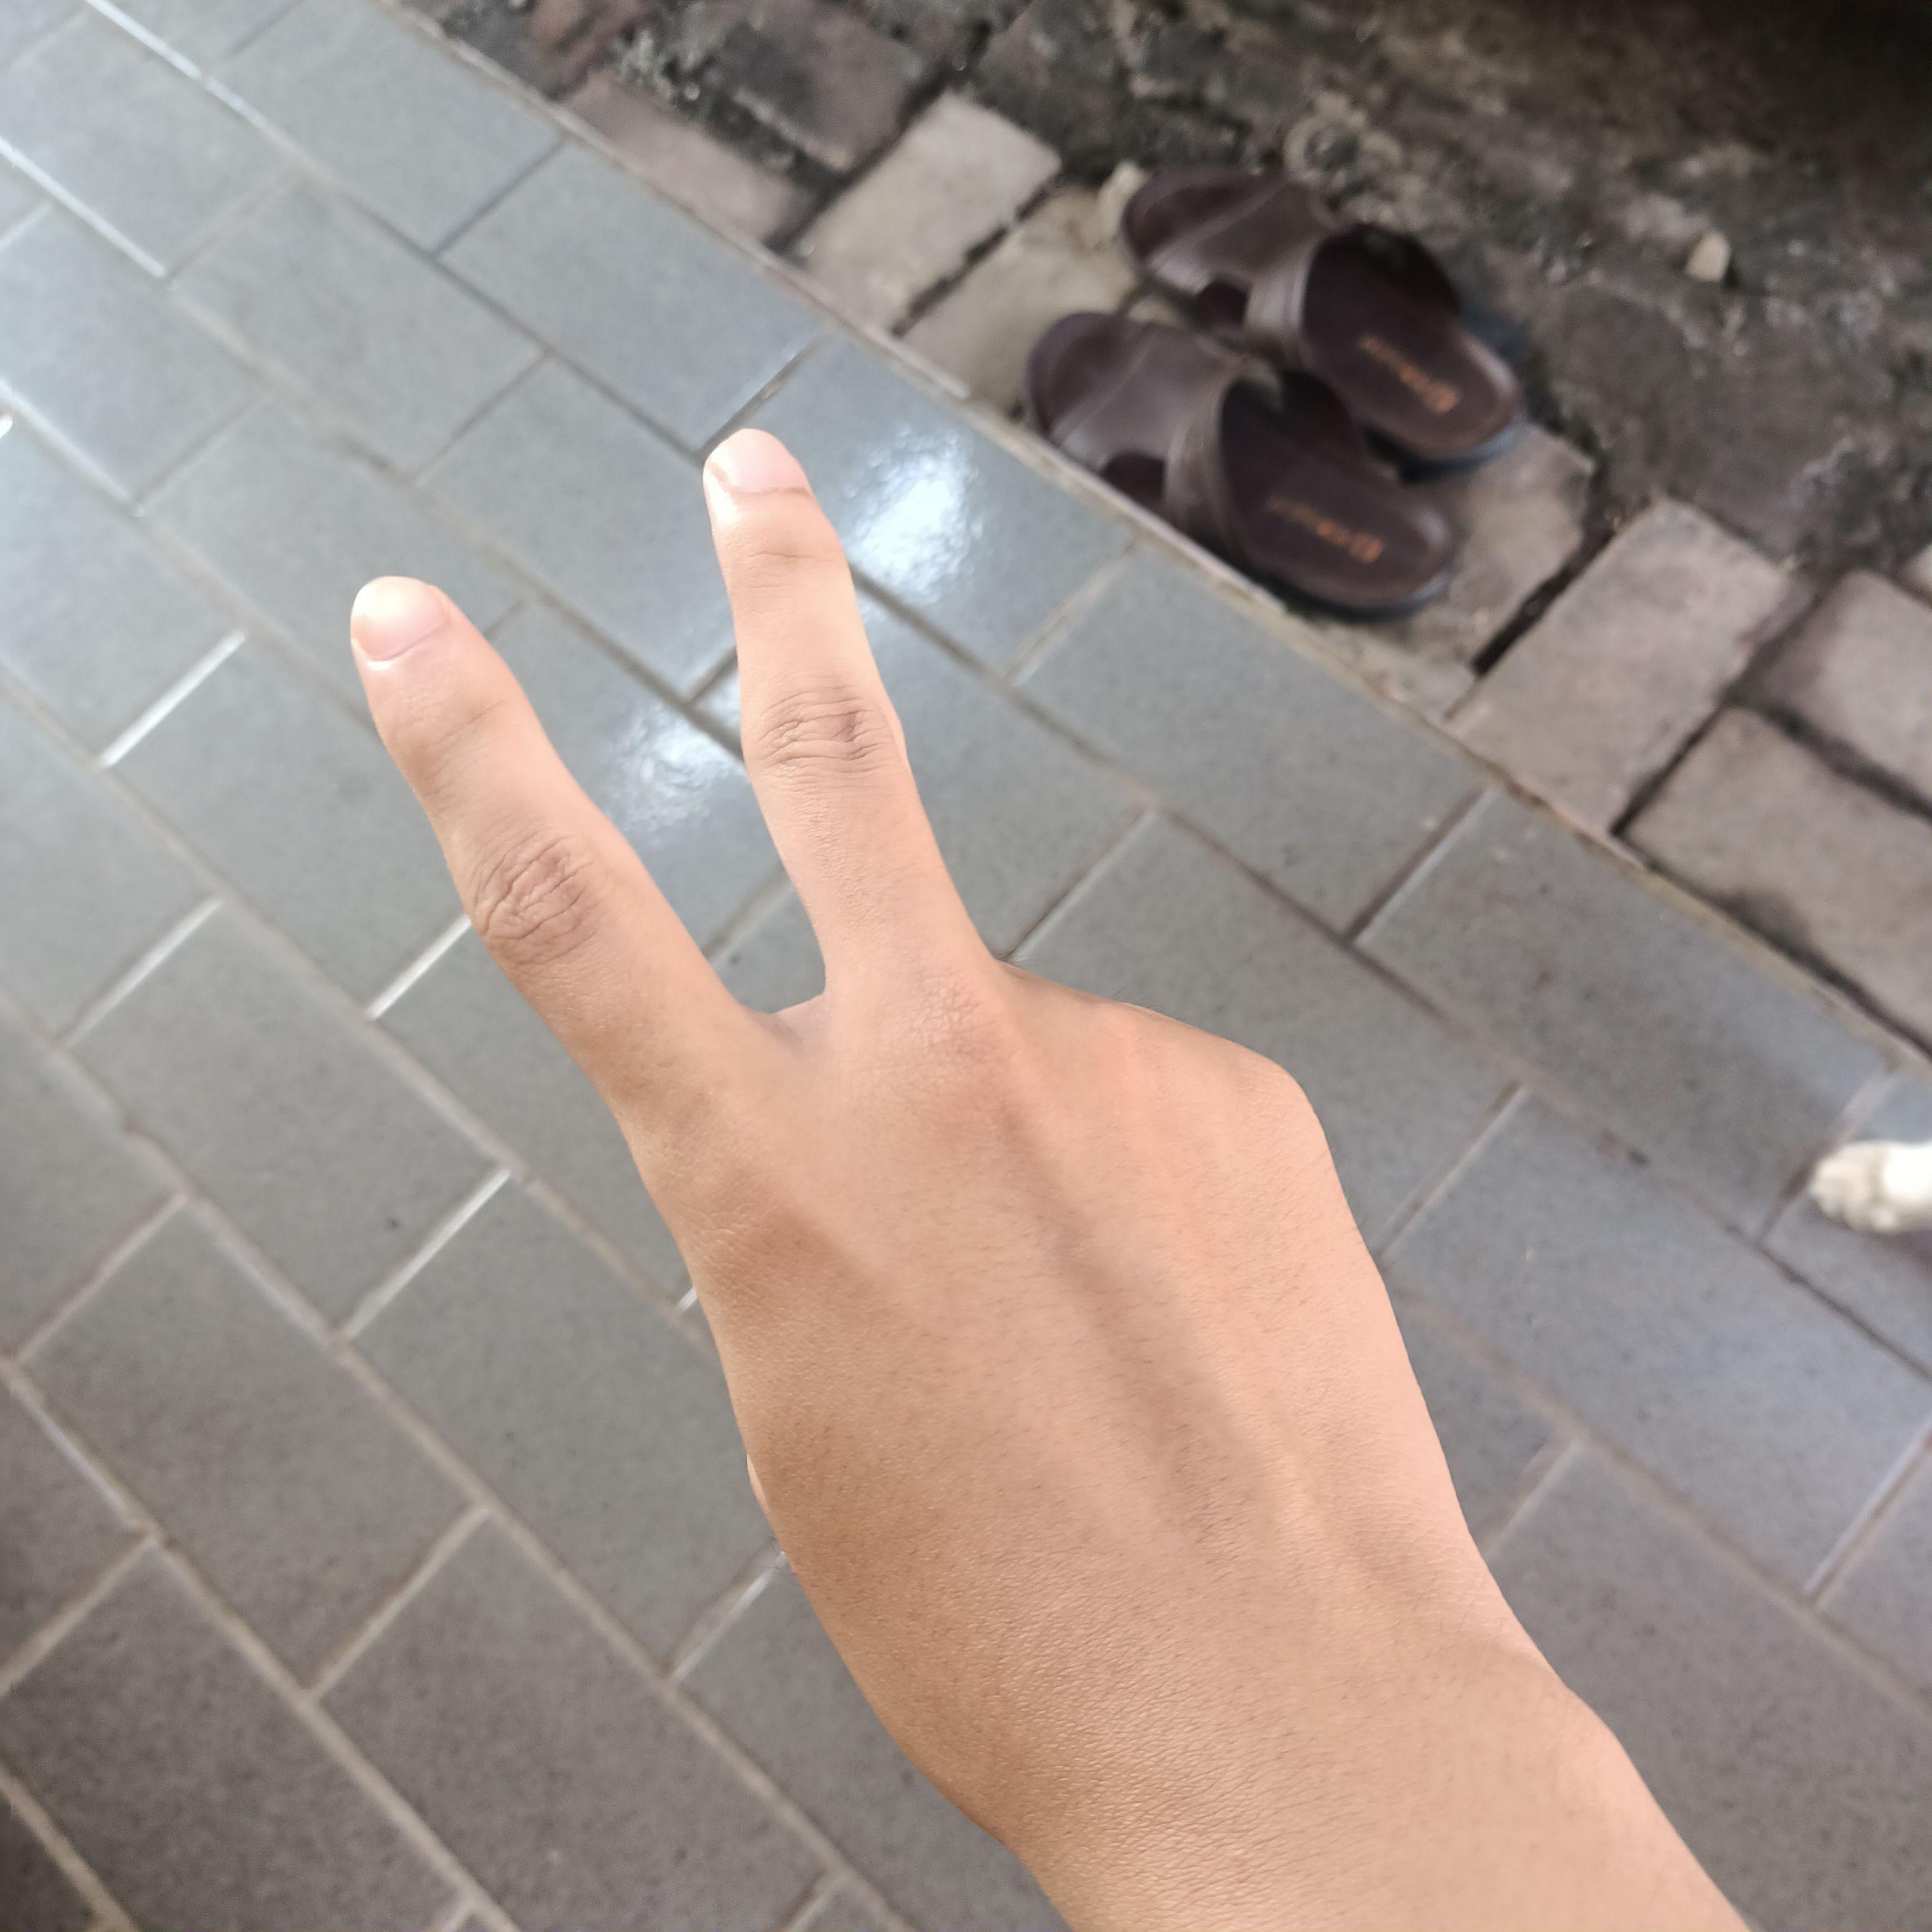scissors: (329, 423, 1527, 1879)
